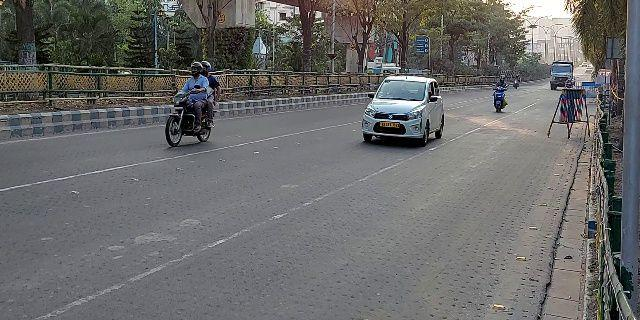Car: (359, 70, 450, 152)
Motorbike: (163, 60, 220, 149), (489, 71, 510, 114)
Truck: (547, 58, 572, 93)
